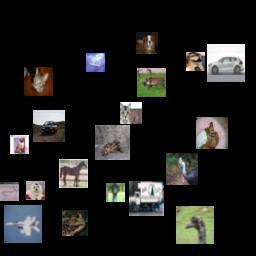airplane: (4, 205, 42, 243), (86, 53, 105, 72)
automobile: (207, 44, 245, 82), (33, 110, 65, 142)
bird: (176, 206, 214, 244), (166, 153, 198, 185), (106, 183, 125, 202)
cat: (24, 67, 53, 96), (120, 102, 142, 124), (10, 135, 29, 154)
deer: (137, 68, 166, 97), (0, 182, 19, 201)
dog: (196, 117, 228, 149), (136, 32, 158, 54), (186, 52, 205, 71), (26, 181, 45, 200)
frog: (95, 125, 130, 160), (62, 210, 88, 236)
truck: (129, 181, 164, 216)
